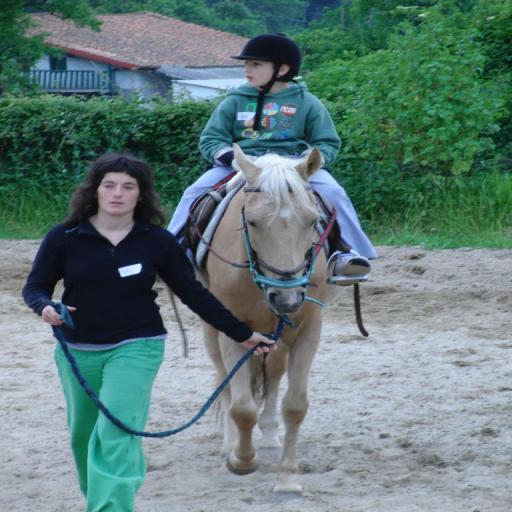horse: (188, 142, 327, 502)
